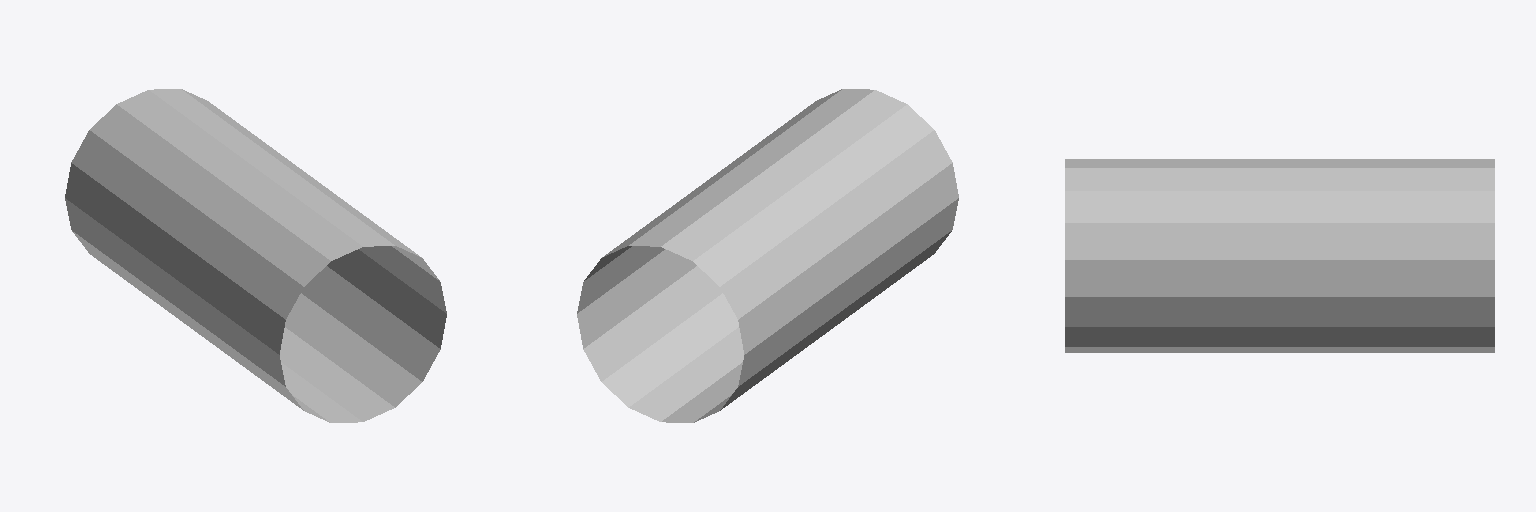
Rendered from PlayerEngineEffect.obj.
The picture shows the model from 3 angles: view 1: azimuth 30°, elevation 25°; view 2: azimuth 150°, elevation 25°; view 3: azimuth 270°, elevation 25°; orthographic projection.
Parts seen in each view (by area): view 1: 円柱; view 2: 円柱; view 3: 円柱.
Part boxes in pixels (left/top/right/bottom): 円柱: left=65, top=89, right=446, bottom=422; 円柱: left=577, top=89, right=958, bottom=422; 円柱: left=1065, top=159, right=1494, bottom=352.
Size of the model in its own units: 2 by 2 by 4.44.